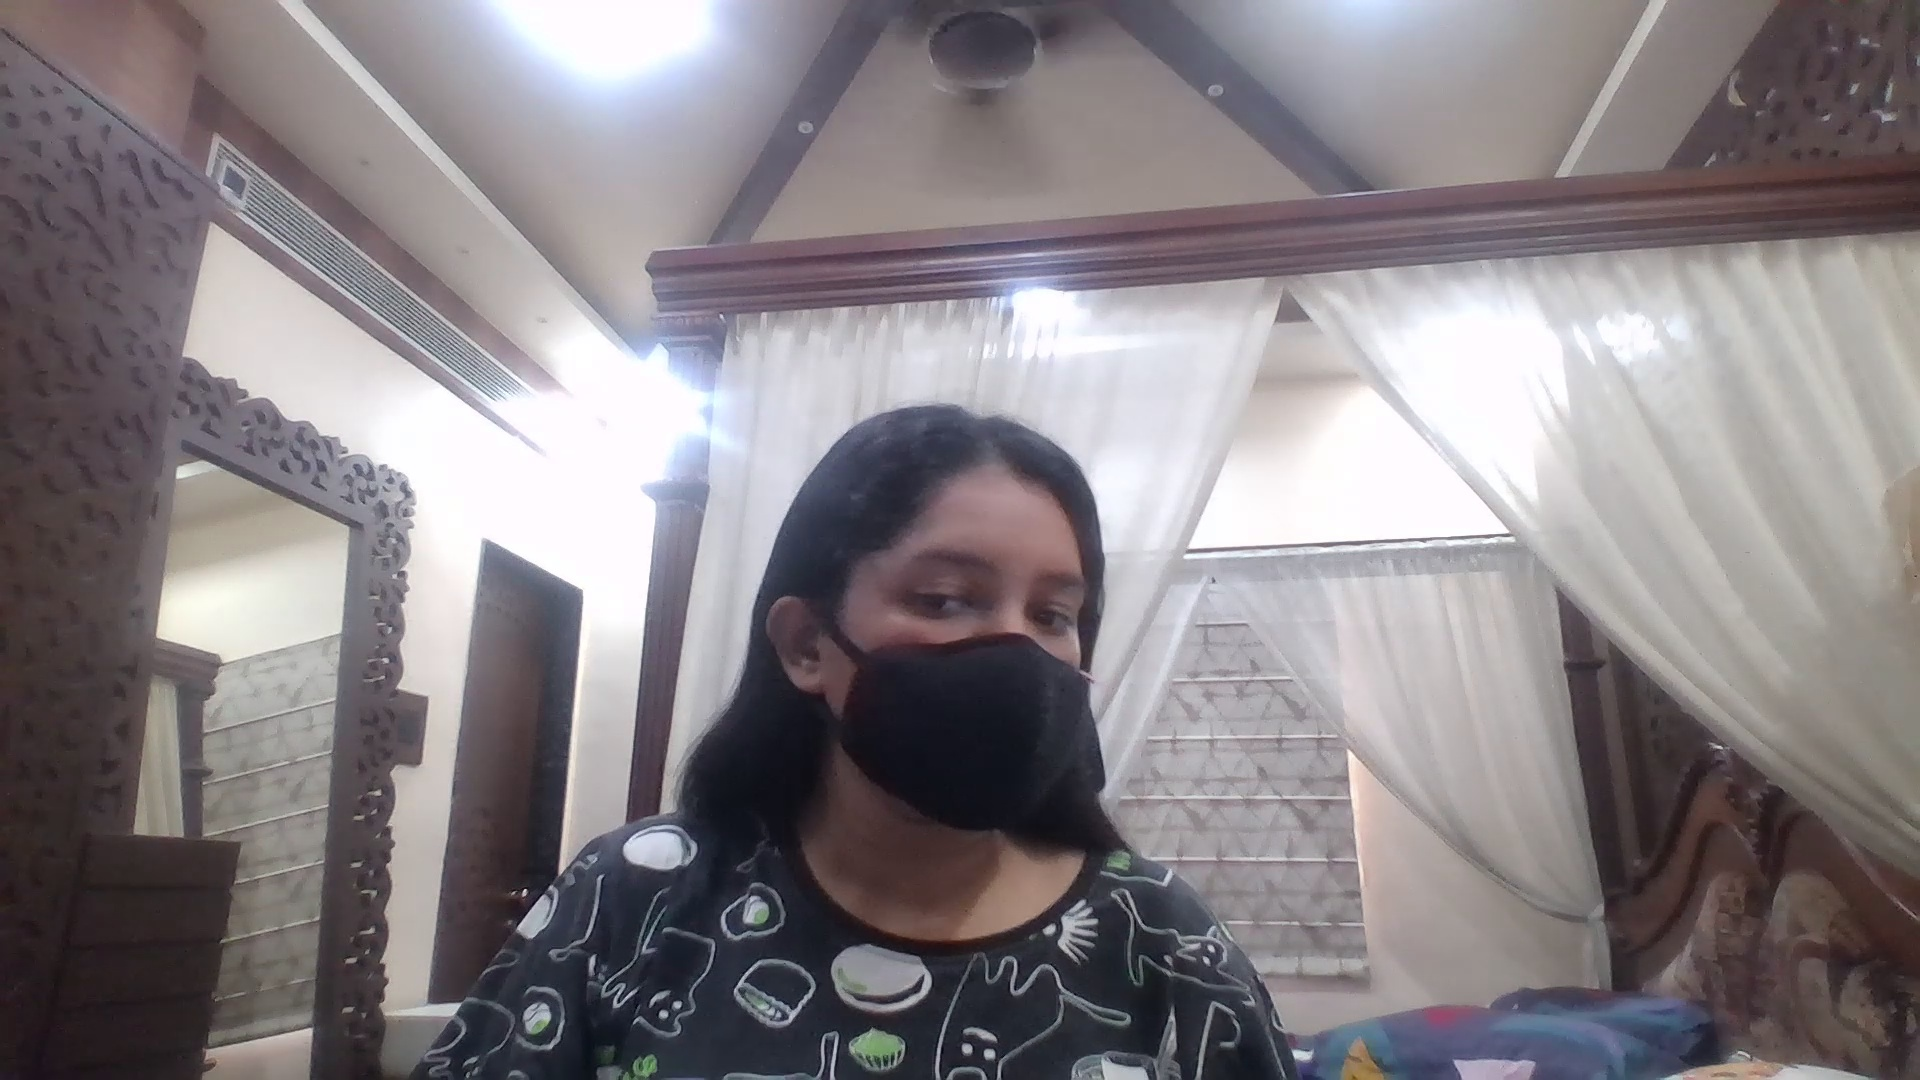Mask: (839, 636, 1095, 838)
